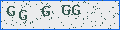G: (7, 5, 15, 16), (19, 10, 27, 20), (42, 6, 50, 16), (62, 5, 70, 15), (72, 5, 80, 15)
